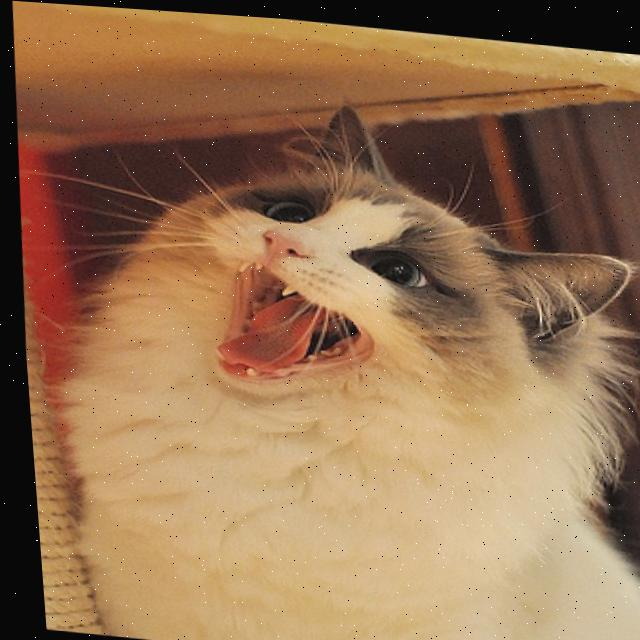Ragdoll: (20, 60, 640, 640)
